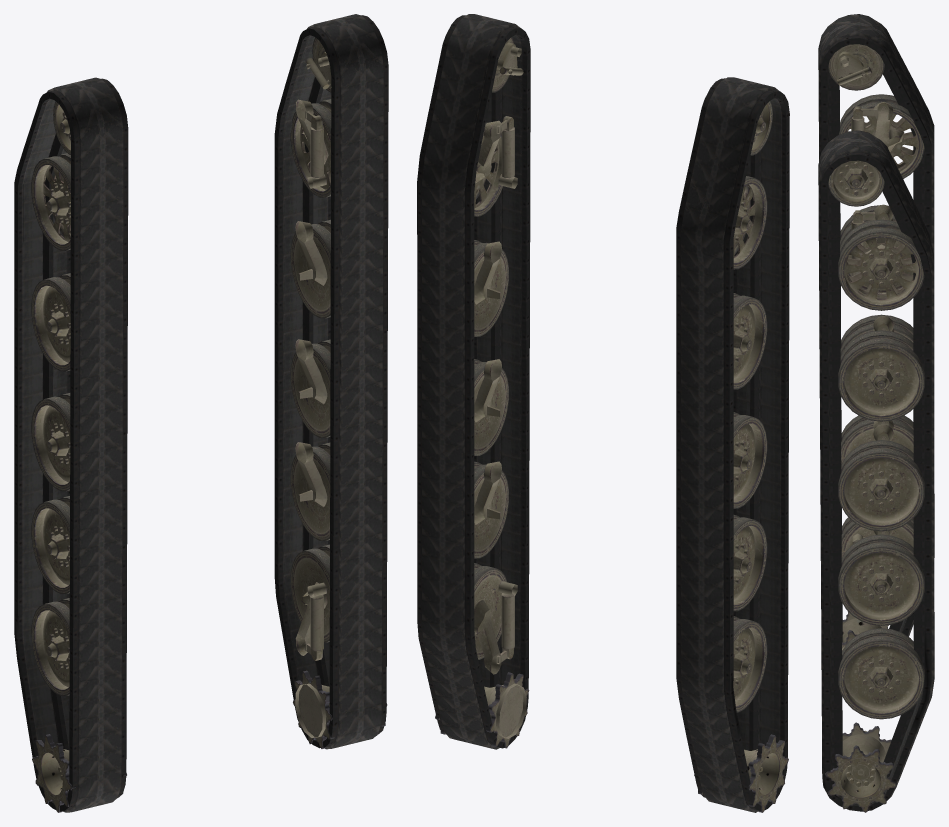
File: Chassis.glb
3 views of the same model, side by side, from view 1: azimuth 30°, elevation 25°; view 2: azimuth 150°, elevation 25°; view 3: azimuth 270°, elevation 25° (orthographic). The views are drawn at different scales.
Visible parts, largest first — view 1: set_0_group_0, set_1_group_0, set_3_group_0, set_2_group_0; view 2: set_0_group_0, set_1_group_0, set_3_group_0, set_2_group_0; view 3: set_3_group_0, set_1_group_0, set_2_group_0, set_0_group_0.
Part boxes in pixels (left/top/right/bottom): set_0_group_0: left=14, top=77, right=128, bottom=812; set_1_group_0: left=274, top=14, right=388, bottom=749; set_3_group_0: left=290, top=37, right=387, bottom=748; set_2_group_0: left=31, top=101, right=126, bottom=812; set_0_group_0: left=676, top=77, right=789, bottom=812; set_1_group_0: left=417, top=14, right=530, bottom=749; set_3_group_0: left=435, top=37, right=529, bottom=748; set_2_group_0: left=694, top=101, right=788, bottom=812; set_3_group_0: left=825, top=160, right=924, bottom=812; set_1_group_0: left=818, top=130, right=934, bottom=811; set_2_group_0: left=828, top=44, right=924, bottom=650; set_0_group_0: left=818, top=14, right=934, bottom=642.
Size of the model in its own units: 3.13 by 6.84 by 1.09.
4 materials, 4 textured.
